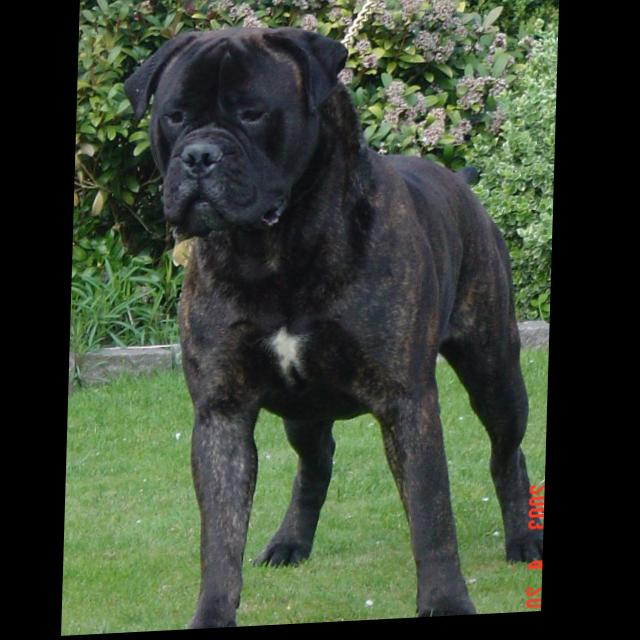bullmastiff: (113, 16, 560, 636)
